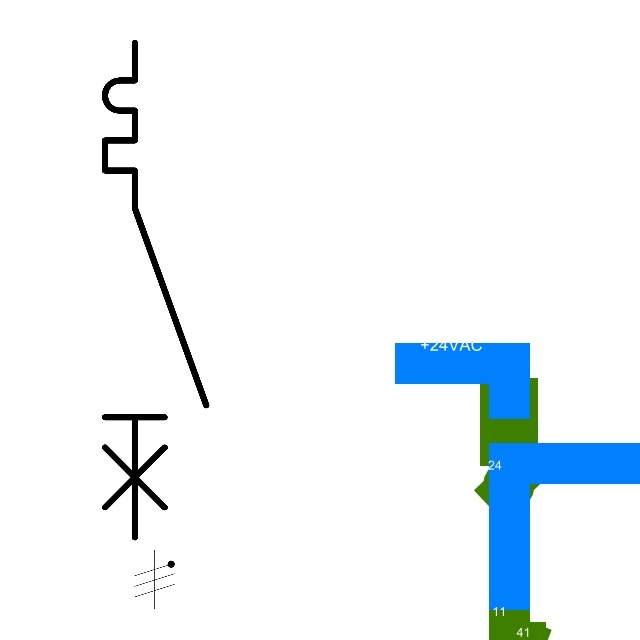interruptor_termomagnetico: (92, 30, 219, 550)
